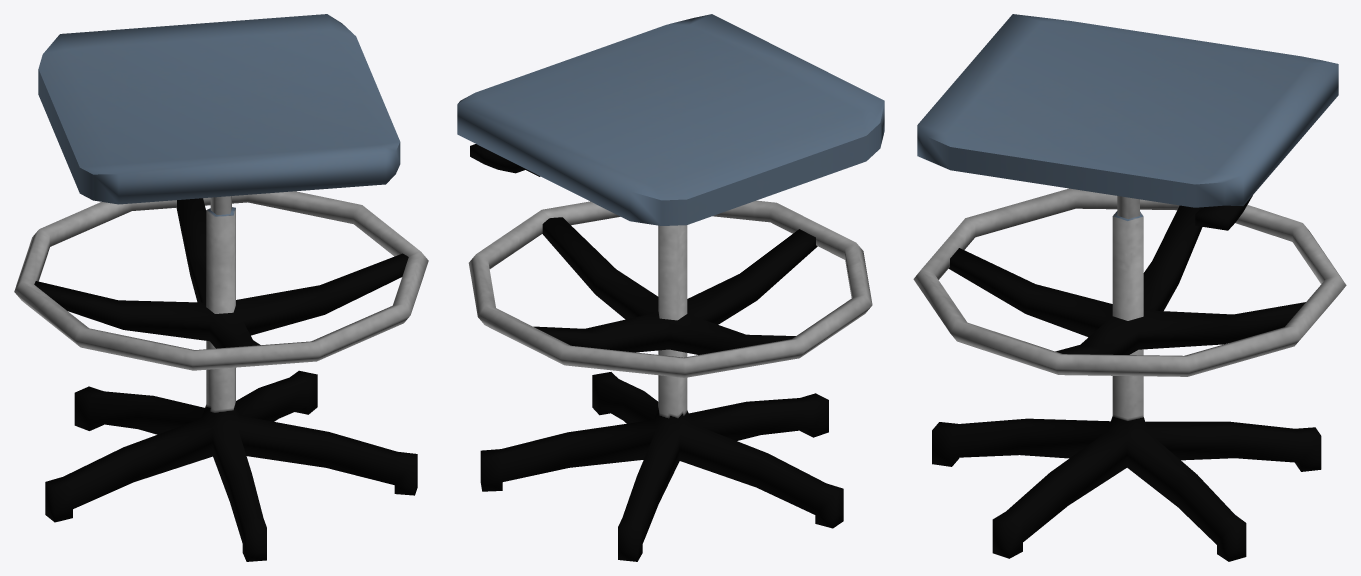
The model's file is Silla2.fbx.
3 views of the same model, side by side, from view 1: azimuth 30°, elevation 25°; view 2: azimuth 150°, elevation 25°; view 3: azimuth 270°, elevation 25° (orthographic). The views are drawn at different scales.
Parts seen in each view (by area): view 1: Cylinder.051; view 2: Cylinder.051; view 3: Cylinder.051.
Boxes of the visible parts, box(x1,y1,x2,y2) form: Cylinder.051: box(14, 14, 428, 561); Cylinder.051: box(457, 14, 884, 561); Cylinder.051: box(913, 14, 1346, 561).
Bounding box in the file's own units: 50.34 × 52.73 × 52.35.
